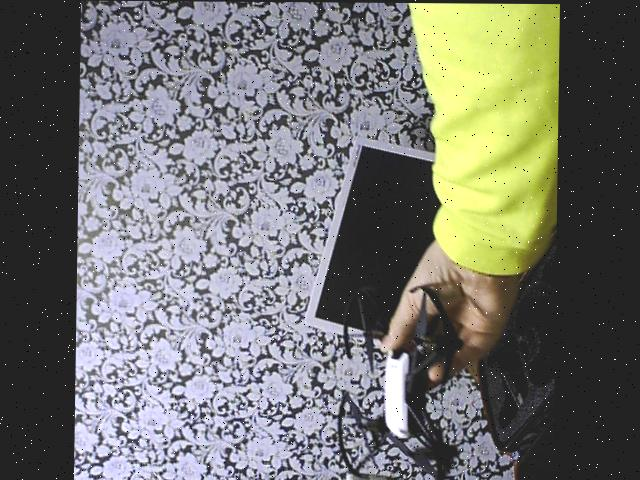drone: (320, 284, 470, 480)
